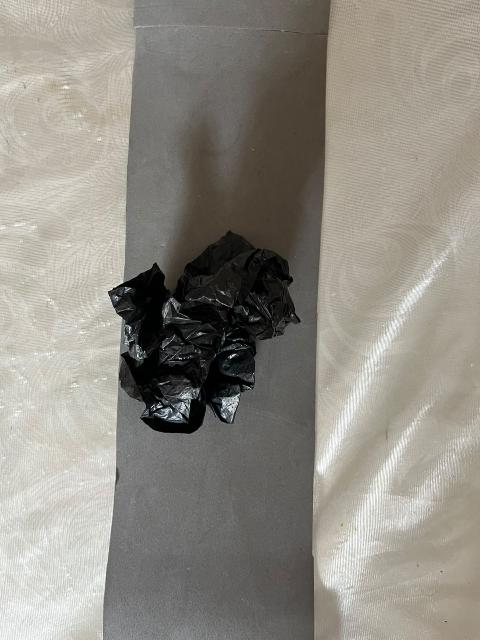LDPE: (69, 206, 385, 490)
